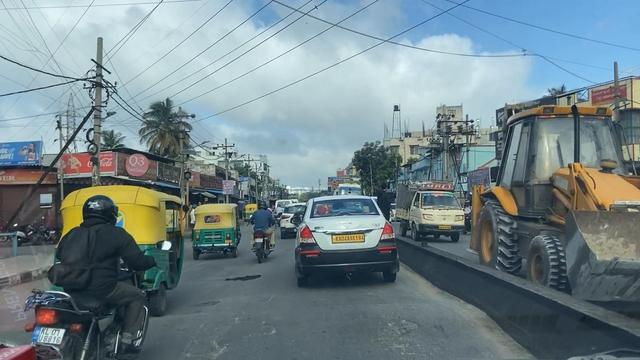LMV: (36, 196, 134, 359), (298, 196, 399, 281), (190, 205, 240, 254)
RoadDamages: (215, 297, 251, 329), (197, 333, 236, 360), (267, 293, 292, 318)
UnsurfacedRoad: (361, 291, 439, 360)
